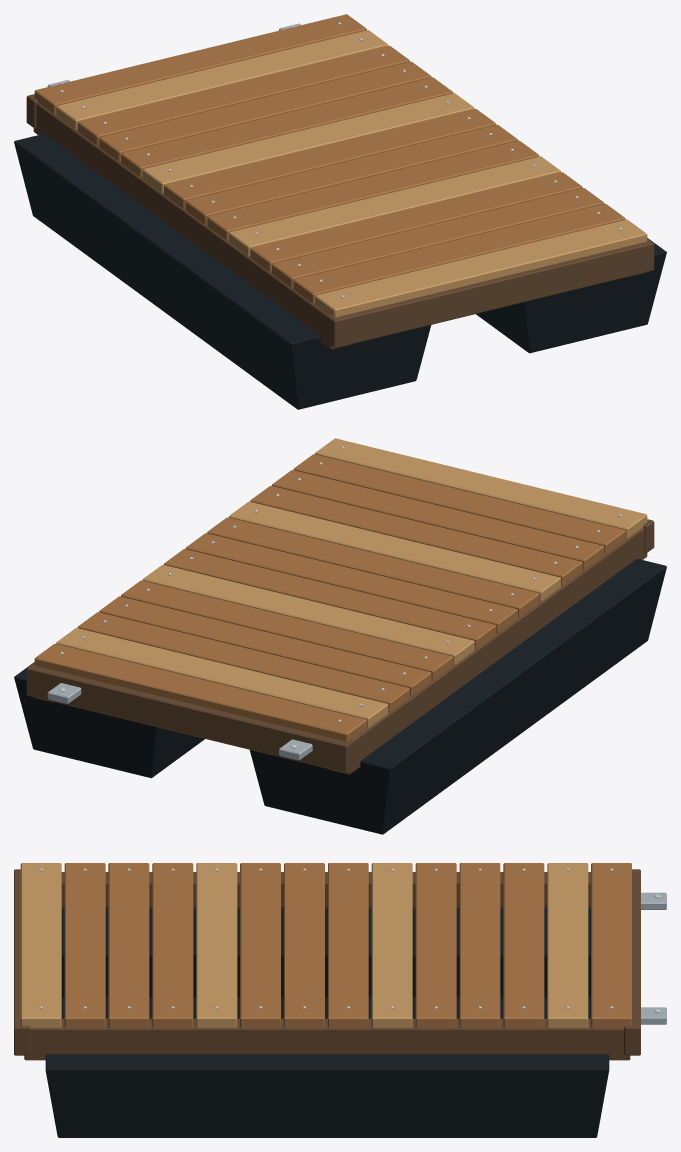
File: b20_modular_floating_dock_section.glb
3 renders of one model, top to bottom at view 1: azimuth 30°, elevation 25°; view 2: azimuth 150°, elevation 25°; view 3: azimuth 270°, elevation 25°, orthographic.
Visible parts, largest first — view 1: b20_modular_floating_dock_section; view 2: b20_modular_floating_dock_section; view 3: b20_modular_floating_dock_section.
Part boxes in pixels (x1,y1,x2,y2): b20_modular_floating_dock_section: (14,14,666,409); b20_modular_floating_dock_section: (14,438,666,834); b20_modular_floating_dock_section: (14,863,666,1137).
Size of the model in its own units: 2.12 by 0.601 by 3.12.
